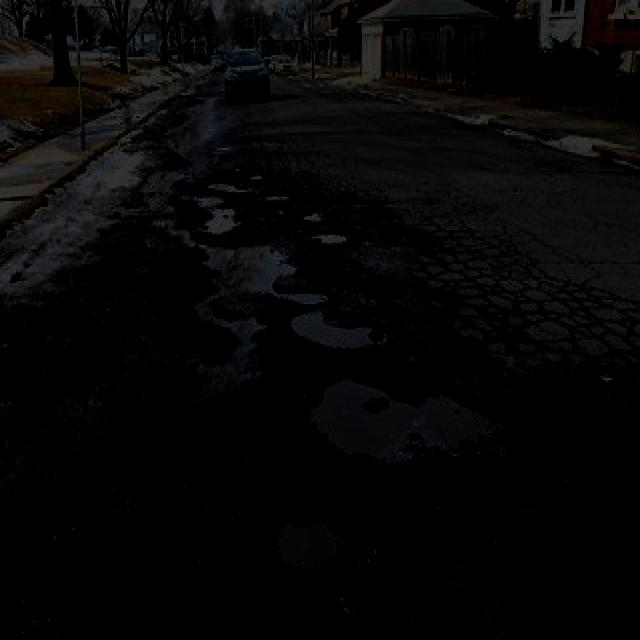Pothole: (61, 162, 554, 640)
